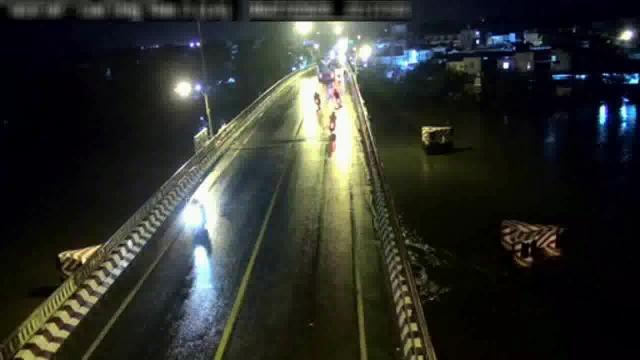Bike: (186, 198, 208, 236), (326, 110, 338, 134), (332, 87, 342, 108), (313, 92, 321, 110)
